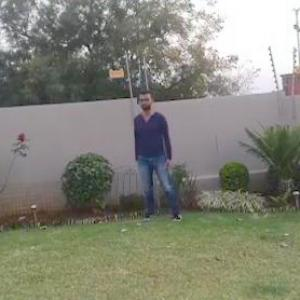follow: (134, 90, 179, 231)
